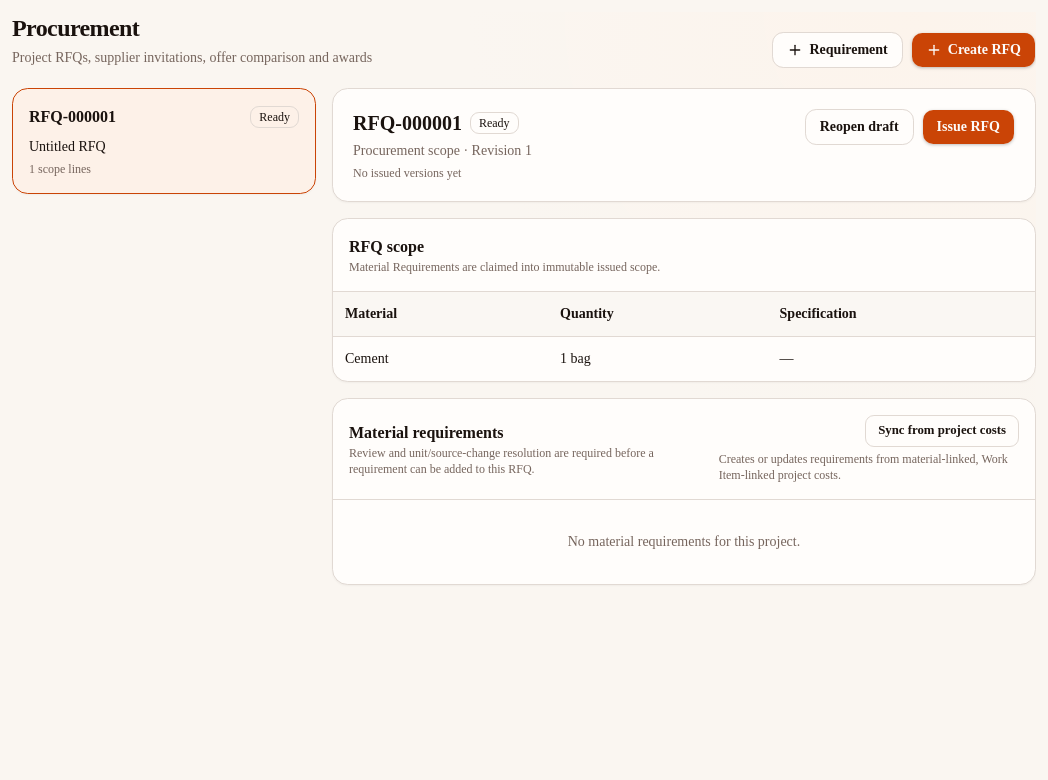
Scenario: ProjectProcurement mutation error banner › surfaces the backend's actual domain message for a 422, not the generic staleness copy
What coordinates should you click on to do the following:
click the button "Issue RFQ"
I would click on:
 (968, 127)
Its box is x1=922 y1=109 x2=1015 y2=145.
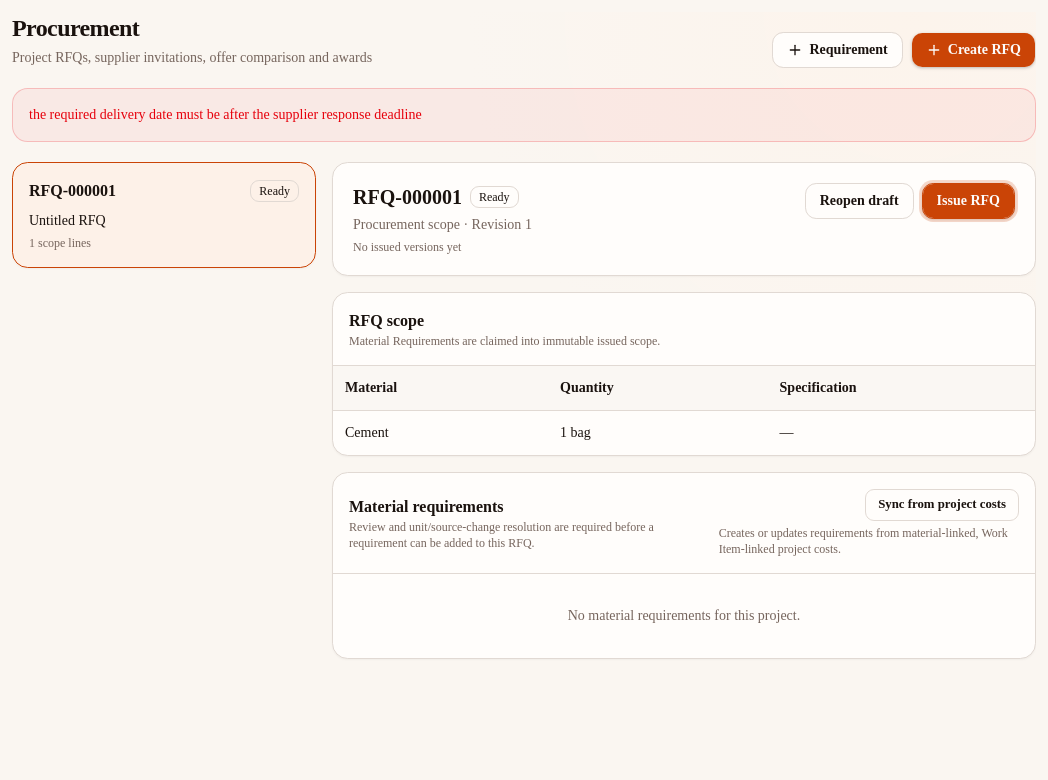
Expected: the text "required delivery date must be after the supplier response deadline" is shown, x1=29 y1=107 x2=422 y2=122
